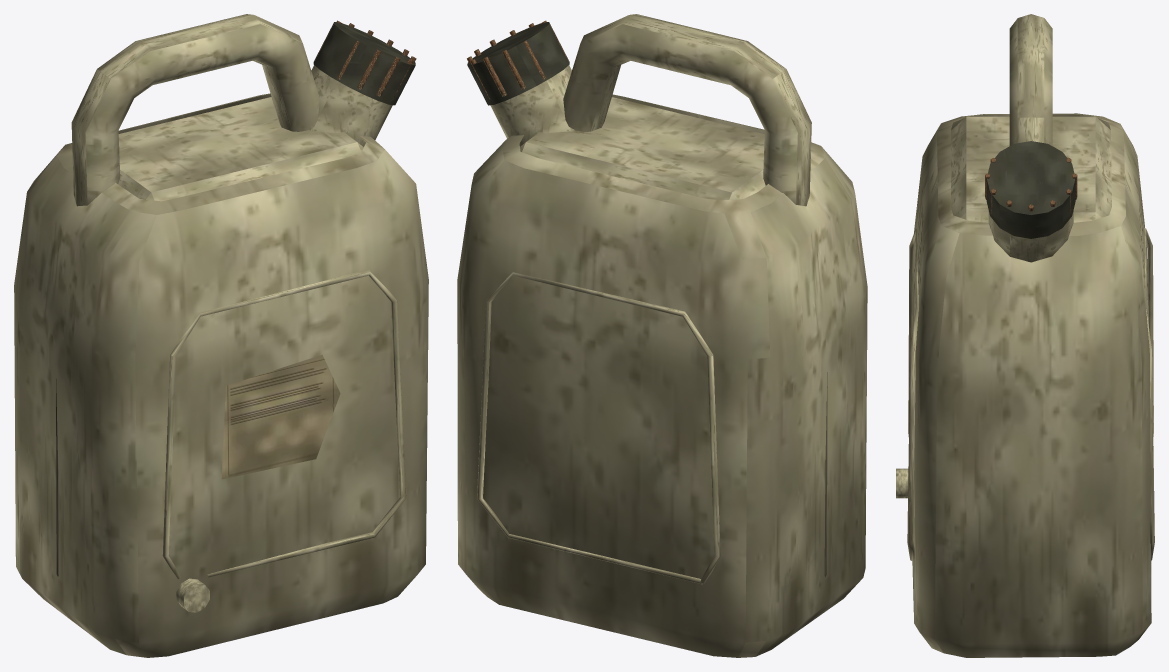
File: nb_water_jug.glb
3 views of the same model, side by side, from view 1: azimuth 30°, elevation 25°; view 2: azimuth 150°, elevation 25°; view 3: azimuth 270°, elevation 25° (orthographic). The views are drawn at different scales.
Visible parts, largest first — view 1: Abandoned_Dirty_Cream_Water_Jug_Body; view 2: Abandoned_Dirty_Cream_Water_Jug_Body; view 3: Abandoned_Dirty_Cream_Water_Jug_Body.
Part boxes in pixels (x1,y1,x2,y2): Abandoned_Dirty_Cream_Water_Jug_Body: [14, 14, 428, 657]; Abandoned_Dirty_Cream_Water_Jug_Body: [457, 14, 867, 657]; Abandoned_Dirty_Cream_Water_Jug_Body: [896, 14, 1154, 657].
Size of the model in its own units: 0.4131 by 0.6304 by 0.274.
Materials: 1 (1 with a texture image).
